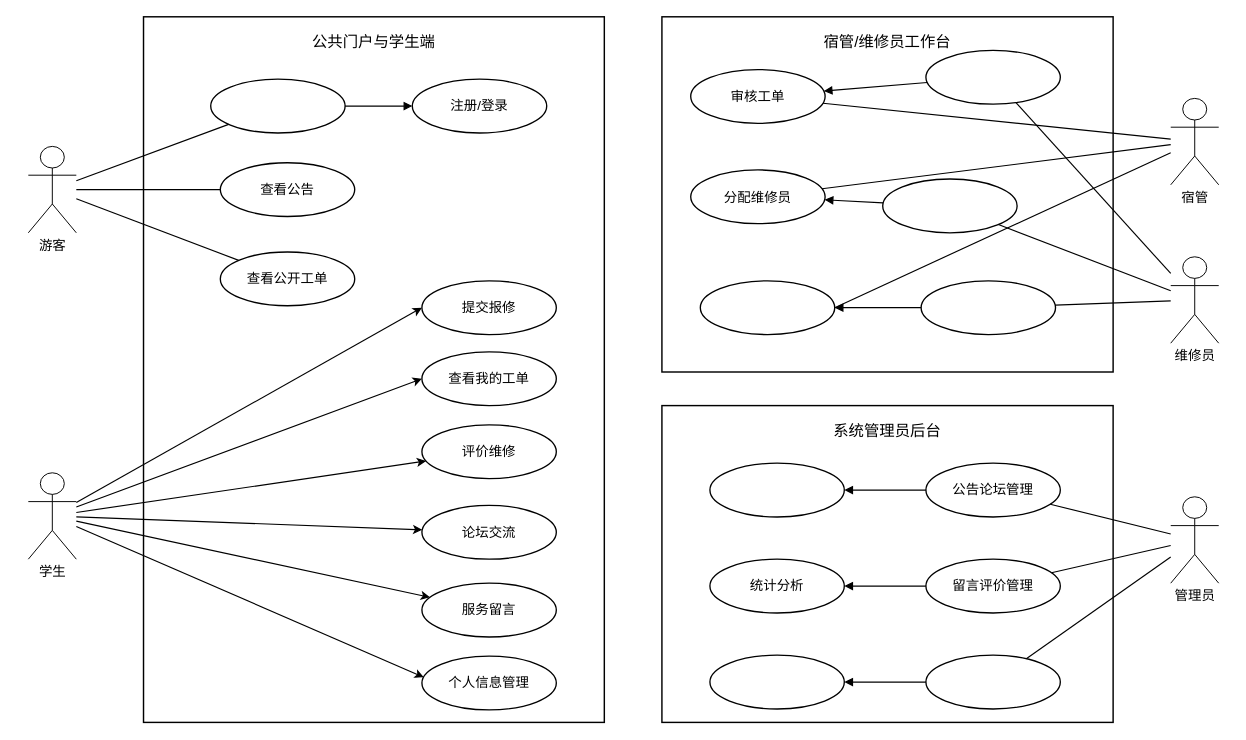
Image size: 1246x740. Some labels were removed from this diagram. The centre of each missing label's shape, as x and y in pixels:
"反馈完成" goes at (x=949, y=205).
"基础配置" goes at (x=777, y=681).
"接单处理" goes at (x=993, y=76).
"浏览首页" goes at (x=277, y=105).
"用户管理" goes at (x=777, y=489).
"维护宿舍设施" goes at (x=767, y=307).
"耗材上报" goes at (x=988, y=307).
"耗材与日志管理" goes at (x=993, y=681).
